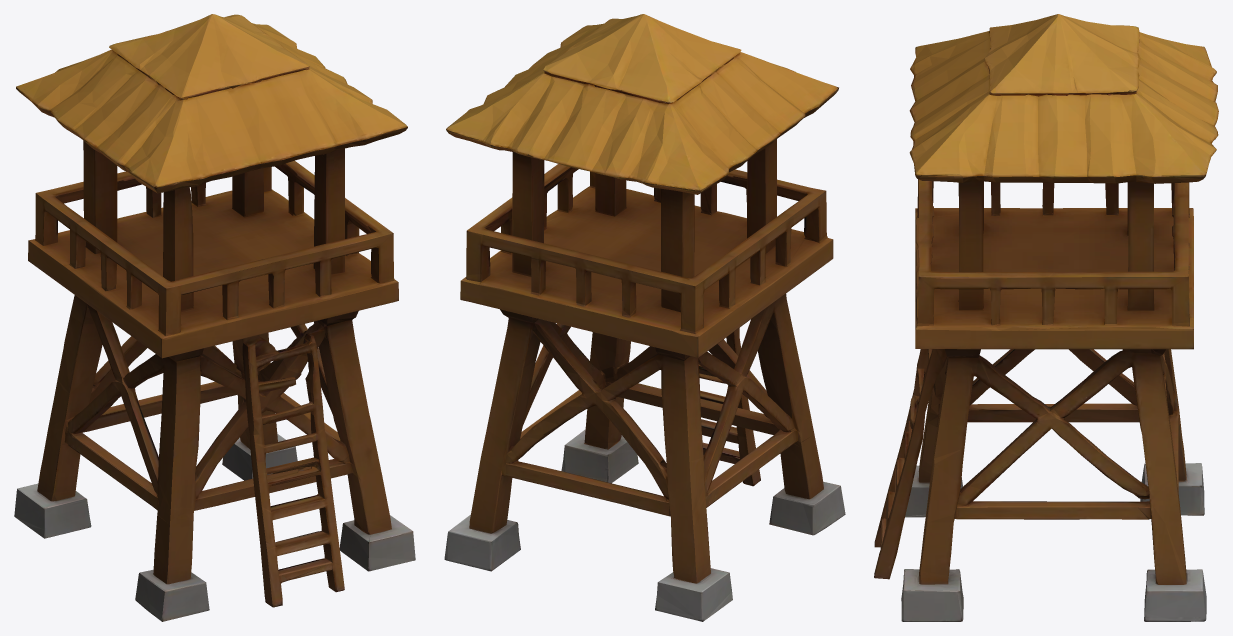
Rendered from ranger_watchtower_variant.glb.
3 views of the same model, side by side, from view 1: azimuth 30°, elevation 25°; view 2: azimuth 150°, elevation 25°; view 3: azimuth 270°, elevation 25° (orthographic). The views are drawn at different scales.
Parts seen in each view (by area): view 1: world; view 2: world; view 3: world.
Boxes of the visible parts, bbox=[...] form: world: bbox=[14, 14, 415, 621]; world: bbox=[444, 14, 845, 621]; world: bbox=[874, 14, 1218, 621].
Bounding box in the file's own units: 0.519 × 1 × 0.5766.
Materials: 1 (1 with a texture image).
